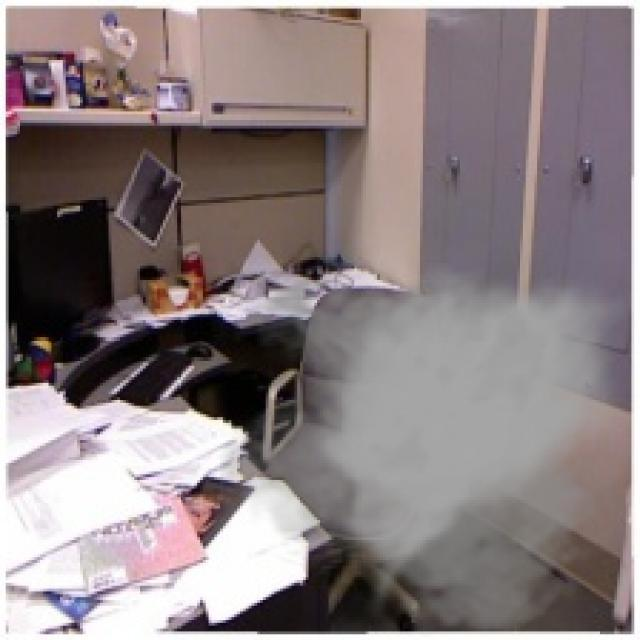Smoke: (219, 262, 632, 638)
